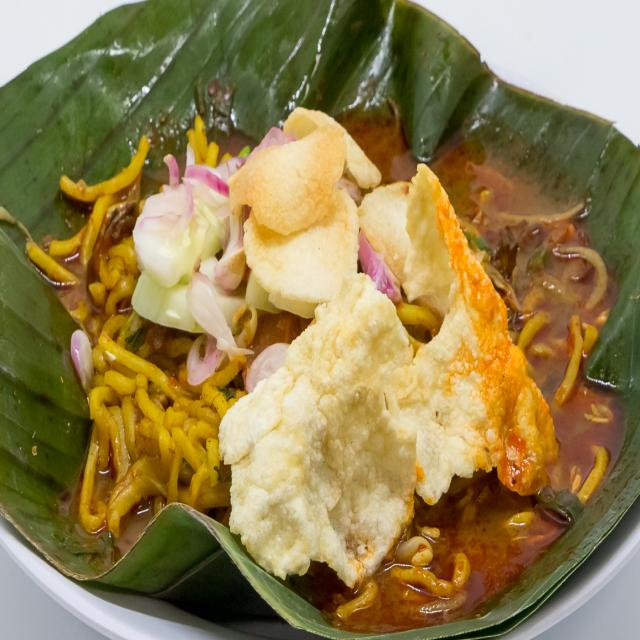Mie-Aceh: (17, 80, 630, 614)
